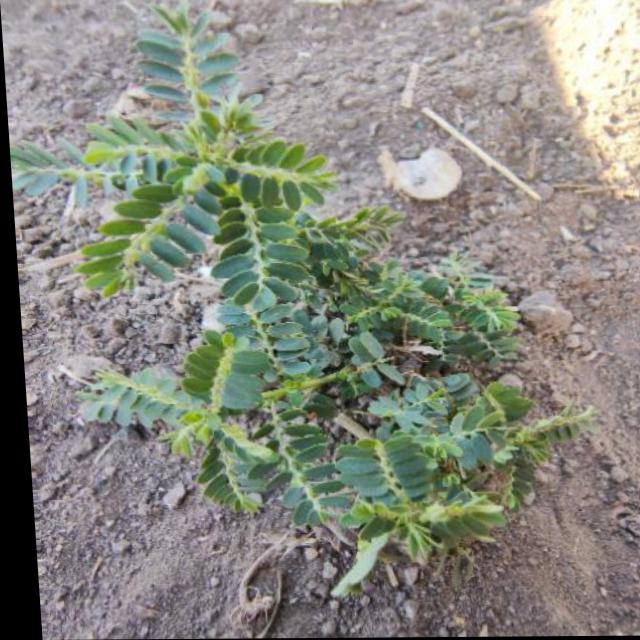weed: (46, 43, 577, 565)
